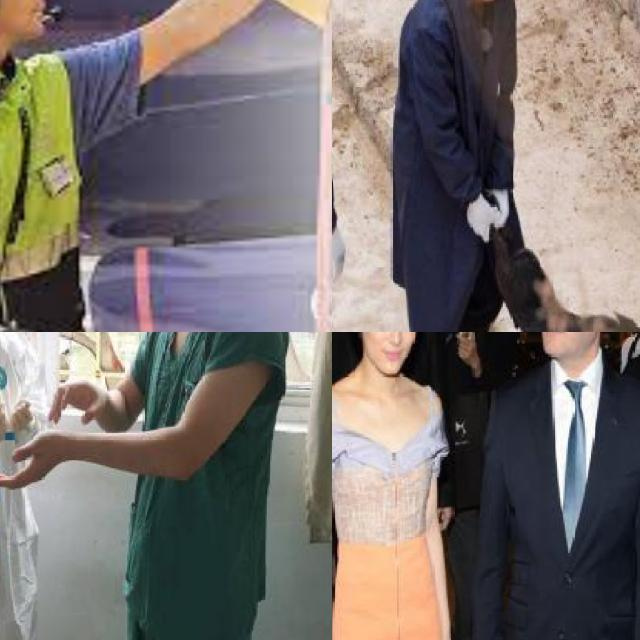face_nomask: (372, 332, 417, 374), (542, 332, 591, 351)
hand_glove: (466, 198, 493, 243), (486, 181, 509, 229), (332, 229, 349, 283), (10, 399, 33, 434), (0, 400, 7, 445)
hand_noglove: (0, 430, 64, 490), (47, 376, 106, 427), (457, 332, 478, 365)
person: (36, 332, 316, 640), (399, 0, 559, 332), (491, 332, 640, 640), (332, 332, 456, 640), (0, 332, 68, 640)
